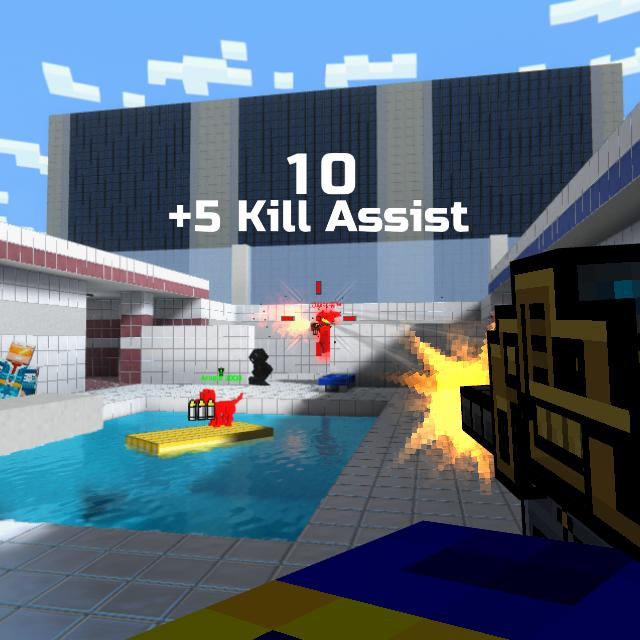Enemy: (312, 309, 332, 355)
